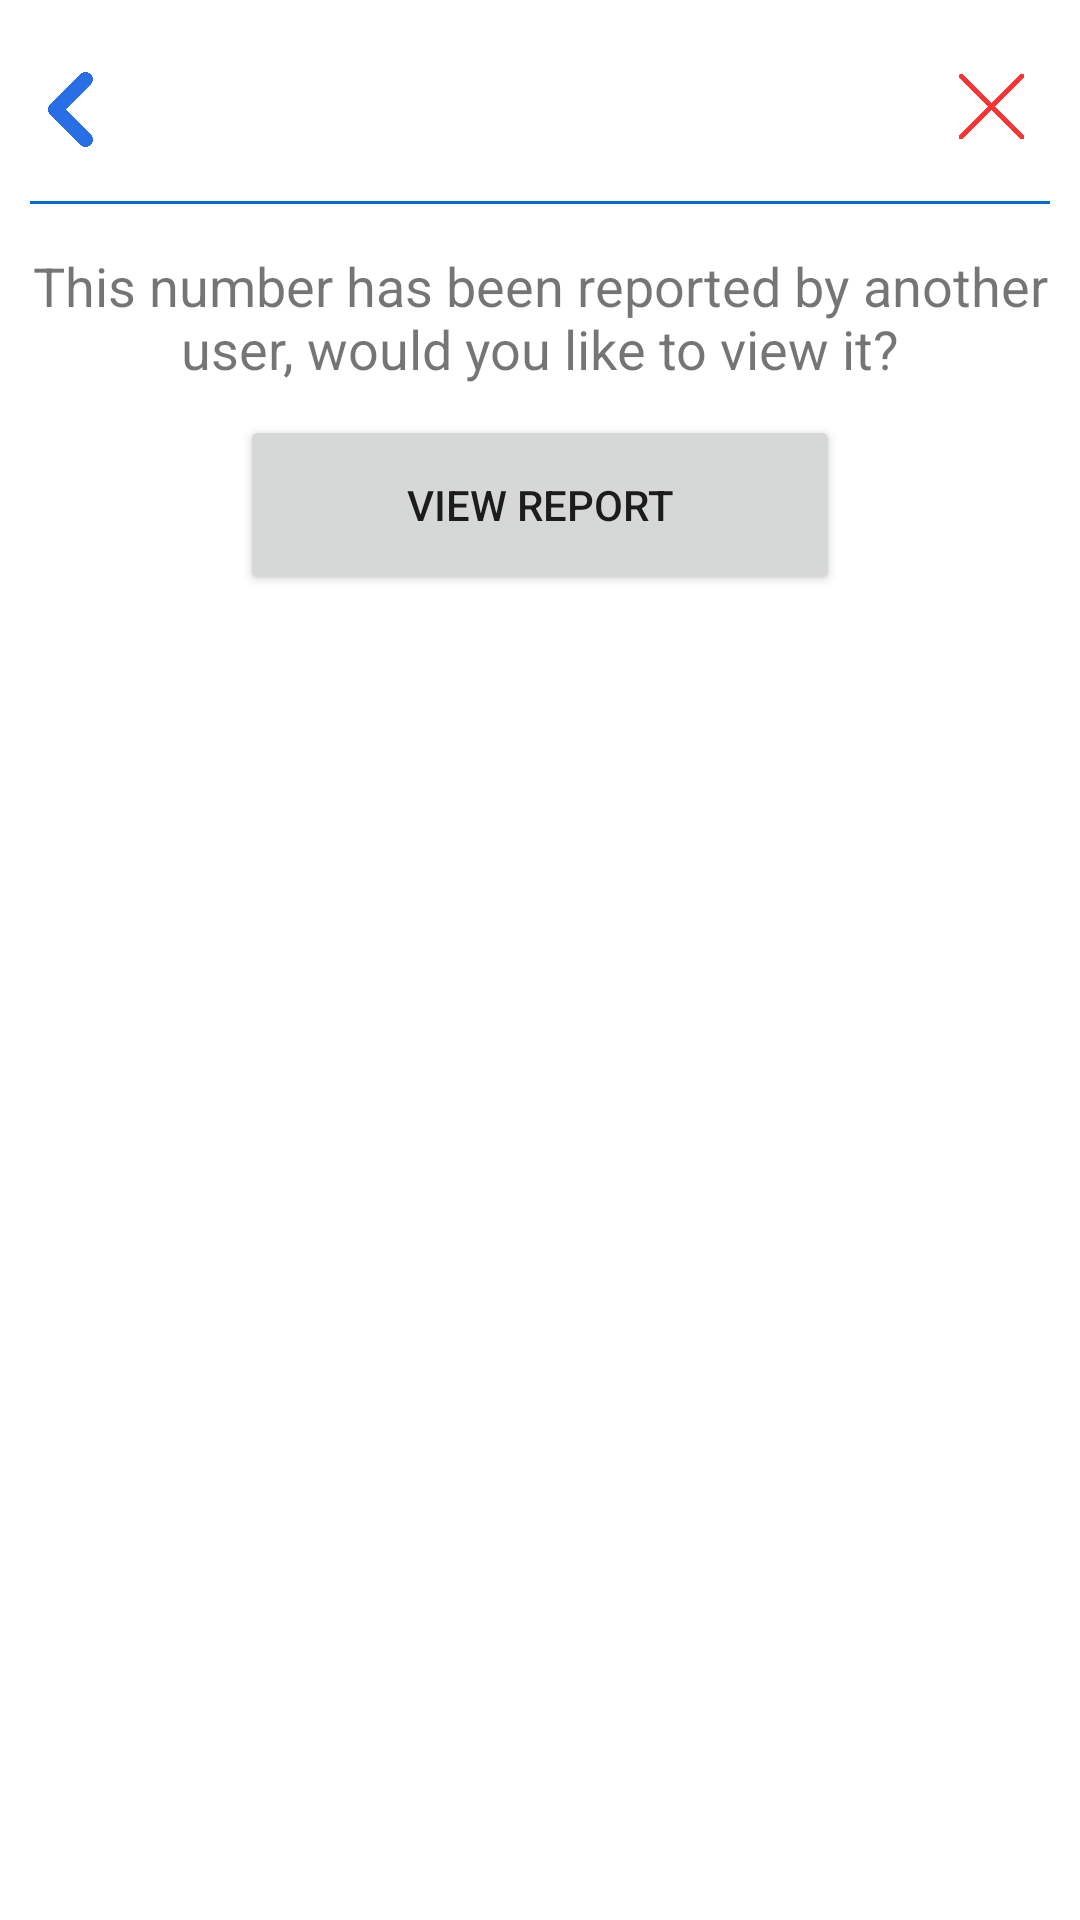

Screen size 1080px x 1920px. Icon name, then its center in pixels as [x,y]:
cancel: [991,106]
go back: [70,109]
